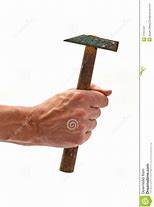hammer: (52, 33, 121, 175)
